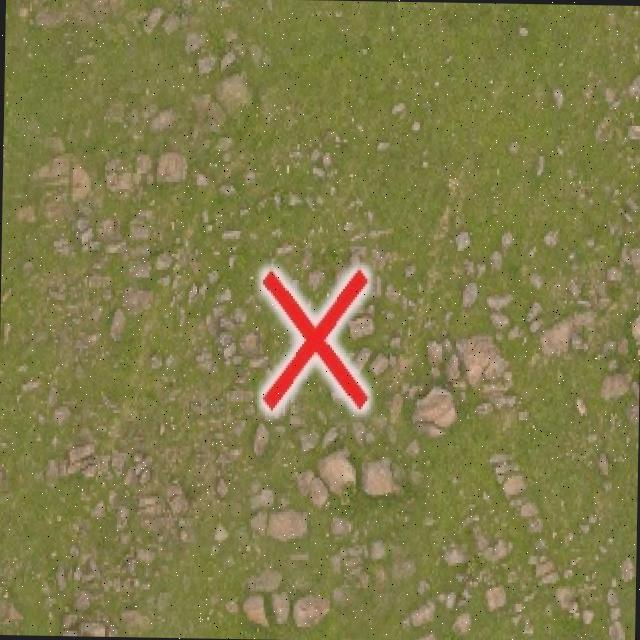x_marker: (260, 267, 368, 410)
